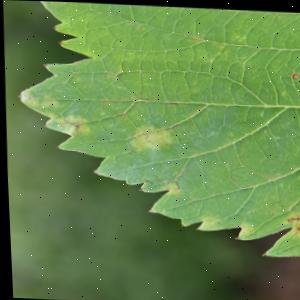Folha: (10, 0, 300, 255)
Fungo: (135, 165, 186, 211), (124, 122, 177, 152), (41, 111, 88, 135), (136, 175, 178, 192), (191, 214, 220, 227), (283, 212, 300, 231), (135, 177, 147, 189), (284, 213, 298, 220), (289, 69, 300, 76), (291, 221, 300, 229)
